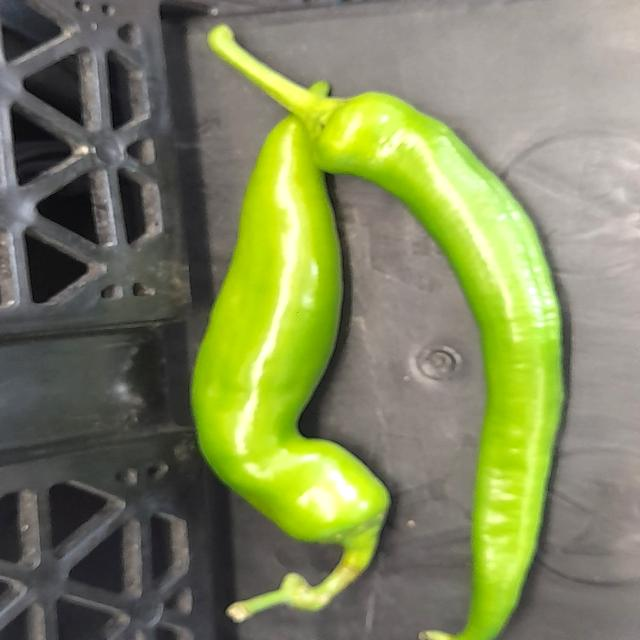green pepper: (276, 64, 580, 640), (185, 70, 388, 640)
